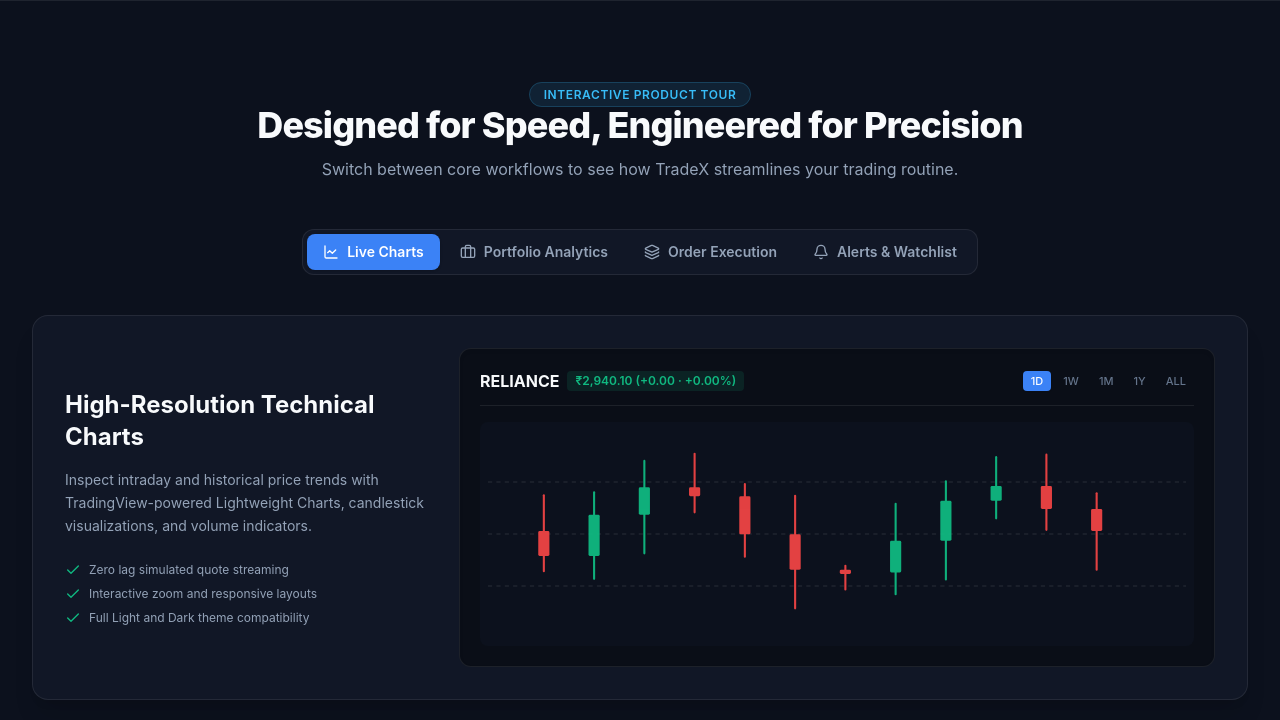
Test case: InteractivePreview › keeps Alerts & Watchlist tab completely static
Click the button "Alerts & Watchlist": (885,252) x1=797 y1=234 x2=973 y2=270
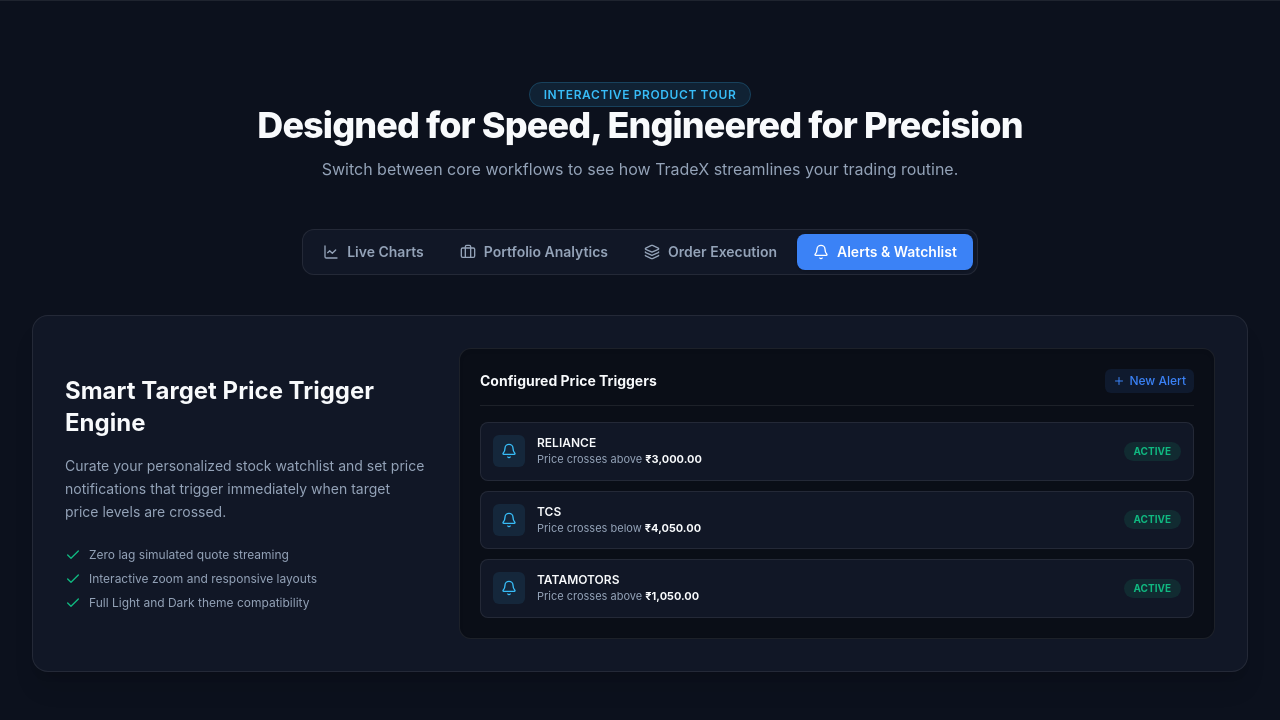
Result: the text "Configured Price Triggers" is shown at x1=480 y1=371 x2=657 y2=391
Result: the button "New Alert" is shown at x1=1105 y1=369 x2=1194 y2=393
Result: the text "Price crosses above ₹3,000.00" is shown at x1=537 y1=451 x2=702 y2=468
